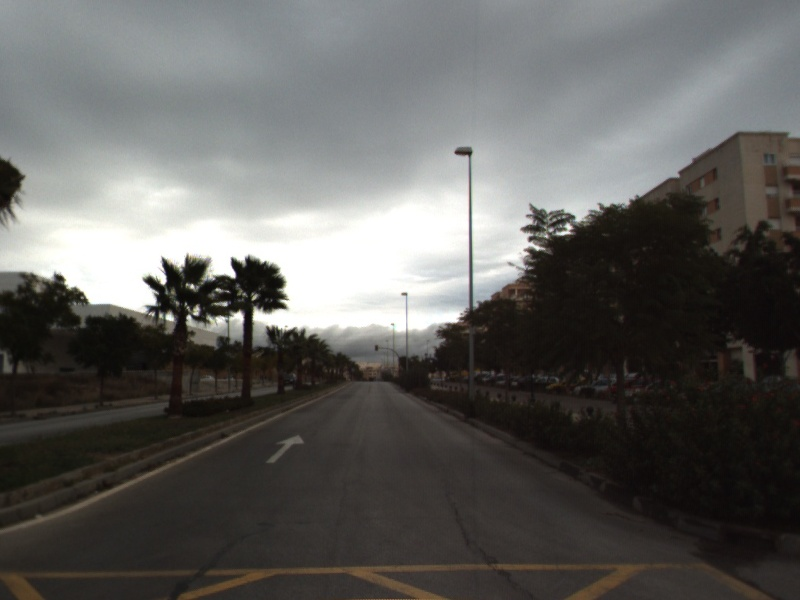STRAIGHT: (264, 432, 307, 465)
